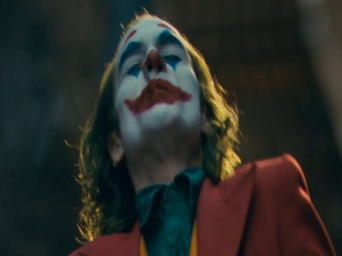smoke: (137, 56, 154, 91)
